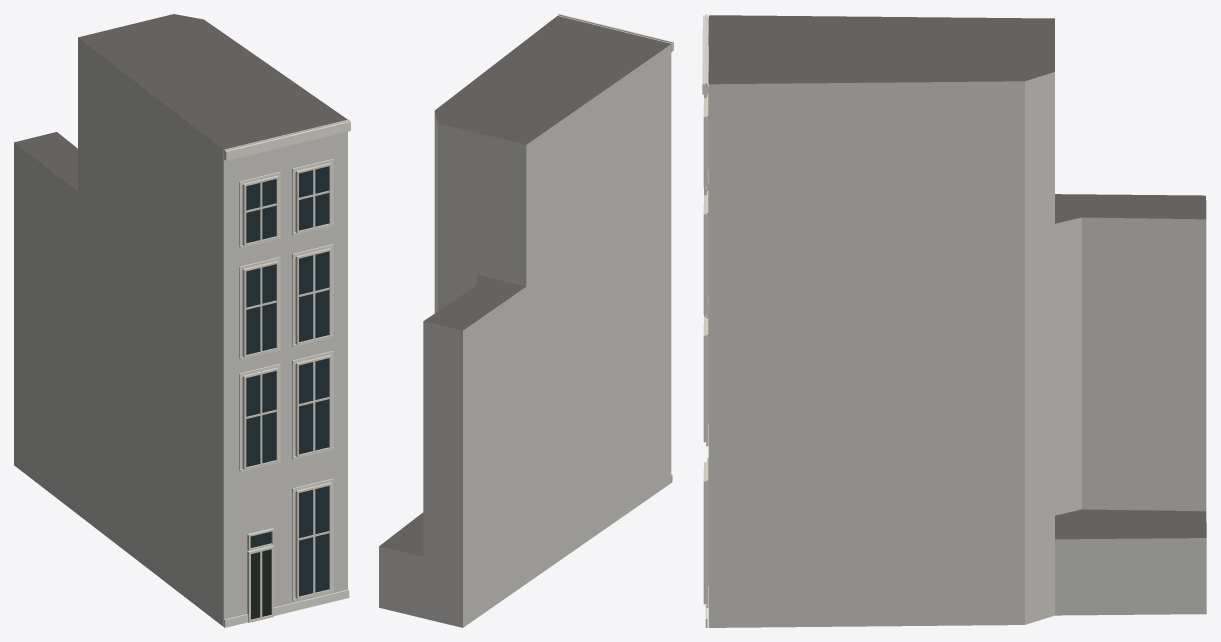
The picture shows the model from 3 angles, left to right: view 1: azimuth 30°, elevation 25°; view 2: azimuth 150°, elevation 25°; view 3: azimuth 270°, elevation 25°; orthographic projection. The views are drawn at different scales.
Visible parts, largest first — view 1: spec-0363100012176004; view 2: spec-0363100012176004; view 3: spec-0363100012176004.
Boxes of the visible parts, x1,y1,x2,y2 form: spec-0363100012176004: [14, 14, 350, 627]; spec-0363100012176004: [379, 14, 673, 627]; spec-0363100012176004: [702, 14, 1206, 627].
Bounding box in the file's own units: 4.99 × 18.34 × 15.39.
